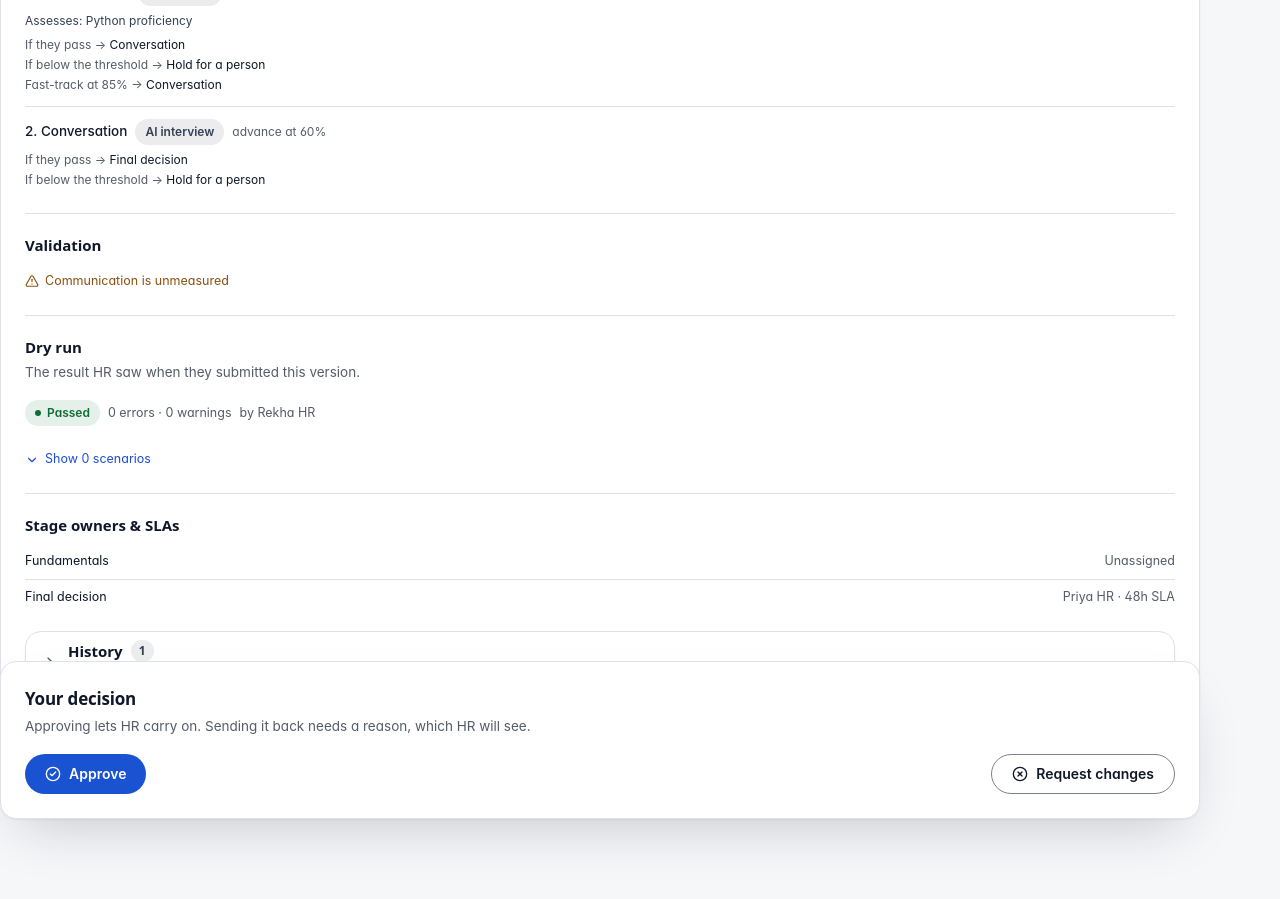
Scenario: WorkflowReviews - one version in full › shows the submission history
(page scrolled)
Expected: the text "Fundamentals" is shown, x1=25 y1=552 x2=109 y2=571
Note: History is a closed disclosure until opened (structural change).
Click the button "History".
click(95, 651)  # box x1=42 y1=632 x2=1158 y2=691
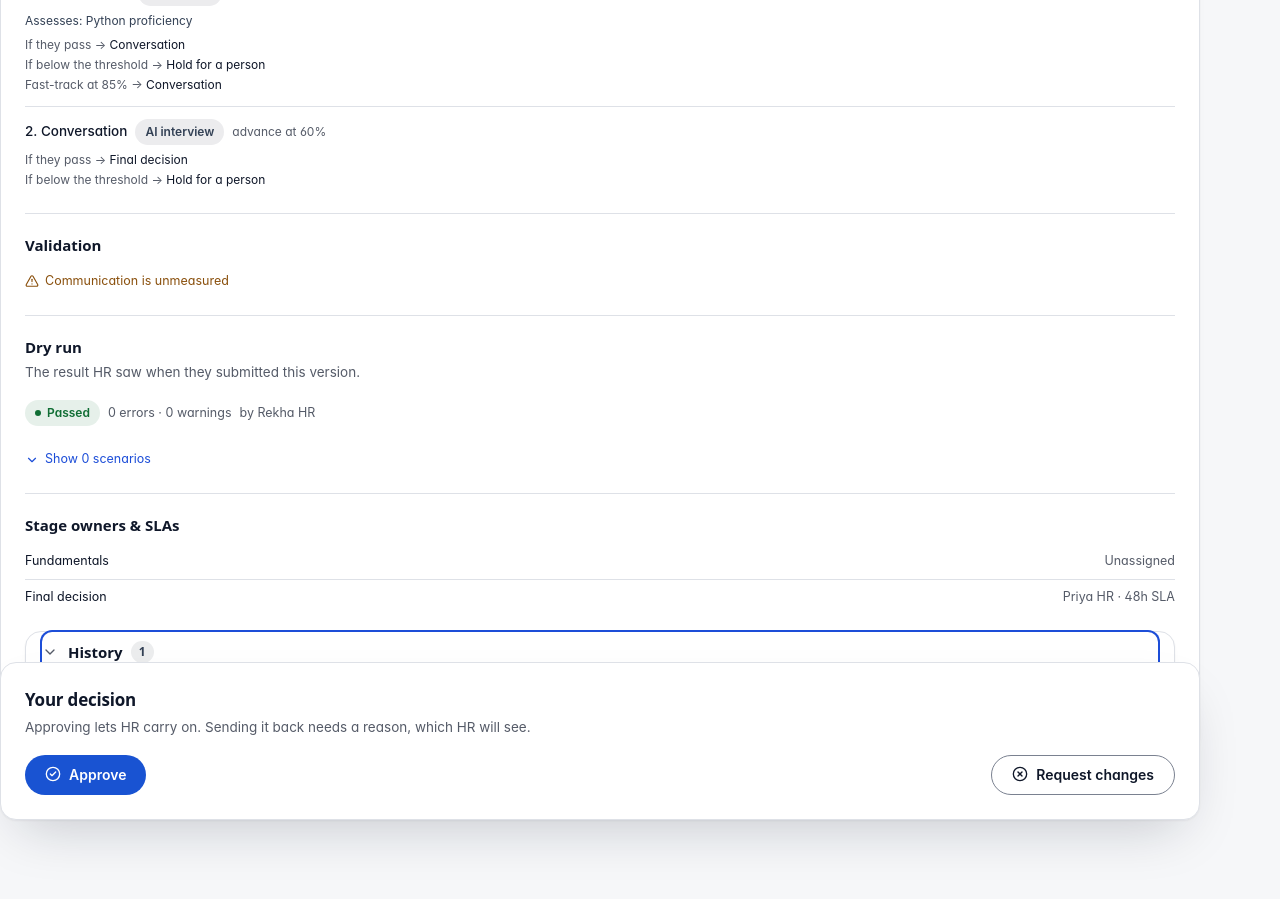
Now the list item "Submitted for review - Rekha HR" is shown, box x1=55 y1=677 x2=398 y2=711
